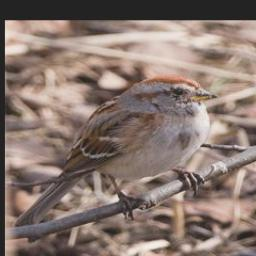Sparrow: (12, 71, 220, 244)
